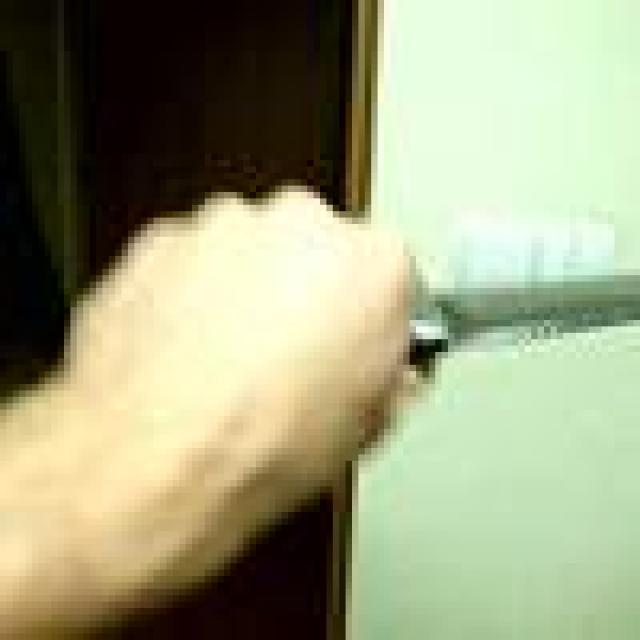knife: (414, 282, 640, 349)
